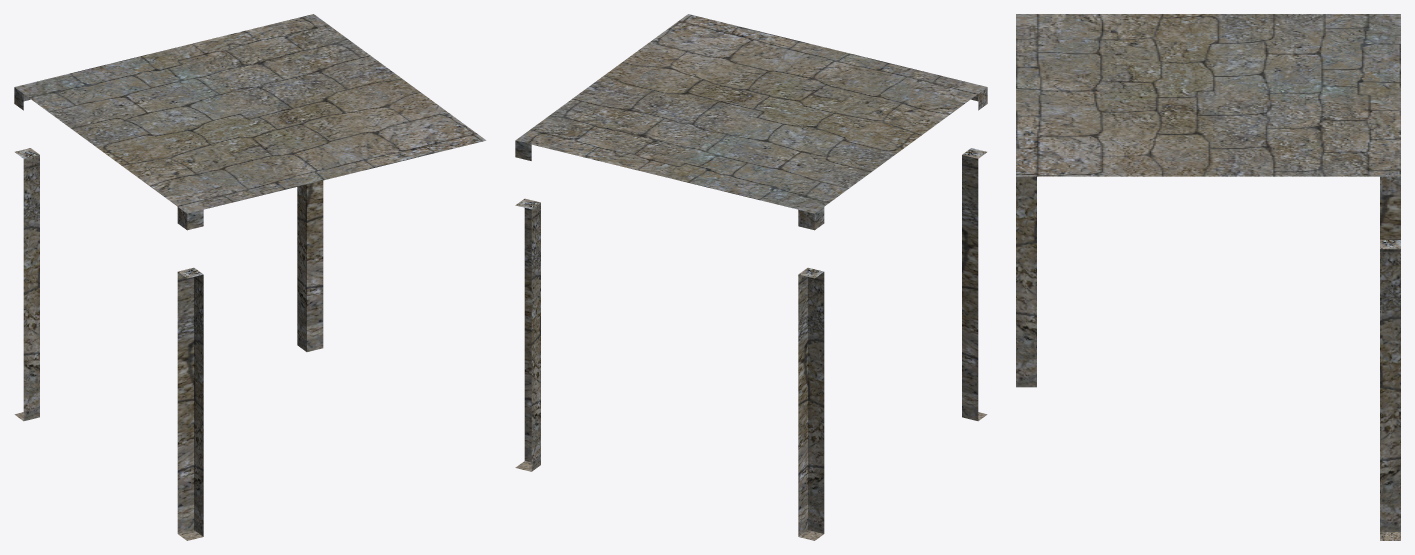
Rendered from Section26.FBX.
3 views of the same model, side by side, from view 1: azimuth 30°, elevation 25°; view 2: azimuth 150°, elevation 25°; view 3: azimuth 270°, elevation 25° (orthographic). The views are drawn at different scales.
Visible parts, largest first — view 1: ClaimedCo100NW-NE-SW001; view 2: ClaimedCo100NW-NE-SW001; view 3: ClaimedCo100NW-NE-SW001.
Part boxes in pixels (bbox=[...]): ClaimedCo100NW-NE-SW001: bbox=[14, 14, 486, 540]; ClaimedCo100NW-NE-SW001: bbox=[515, 14, 987, 540]; ClaimedCo100NW-NE-SW001: bbox=[1016, 14, 1400, 540].
Size of the model in its own units: 100 by 104 by 100.
